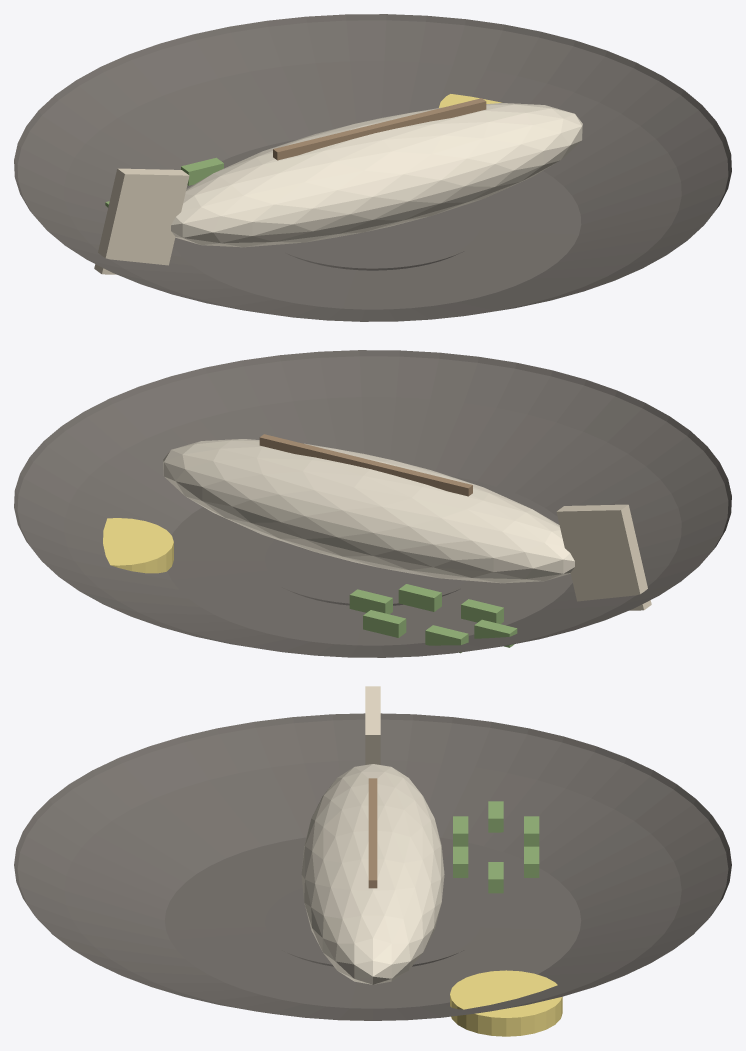
The model's file is pescado.glb.
3 renders of one model, top to bottom at view 1: azimuth 30°, elevation 25°; view 2: azimuth 150°, elevation 25°; view 3: azimuth 270°, elevation 25°, orthographic.
Visible parts, largest first — view 1: p0, p1, p2, p3, p6, p9; view 2: p0, p1, p2, p7, p13, p9, p8, p12, p3, p6, p10, p11 (+1 smaller); view 3: p0, p1, p7, p2.
Part boxes in pixels (bbox=[...]): p0: bbox=[14, 14, 731, 321]; p1: bbox=[171, 103, 582, 247]; p2: bbox=[94, 168, 189, 274]; p3: bbox=[273, 134, 339, 160]; p6: bbox=[421, 98, 486, 122]; p9: bbox=[181, 157, 223, 185]; p0: bbox=[14, 350, 731, 657]; p1: bbox=[163, 439, 574, 583]; p2: bbox=[556, 504, 651, 610]; p7: bbox=[103, 518, 173, 573]; p13: bbox=[398, 584, 441, 611]; p9: bbox=[363, 610, 406, 637]; p8: bbox=[349, 589, 392, 614]; p12: bbox=[461, 599, 503, 623]; p3: bbox=[406, 470, 472, 496]; p6: bbox=[259, 434, 321, 458]; p10: bbox=[425, 625, 468, 653]; p11: bbox=[474, 619, 517, 647]; p0: bbox=[14, 713, 731, 1020]; p1: bbox=[301, 764, 444, 984]; p7: bbox=[450, 970, 562, 1036]; p2: bbox=[365, 686, 380, 764].
Size of the model in its own units: 0.28 by 0.0501 by 0.28.
